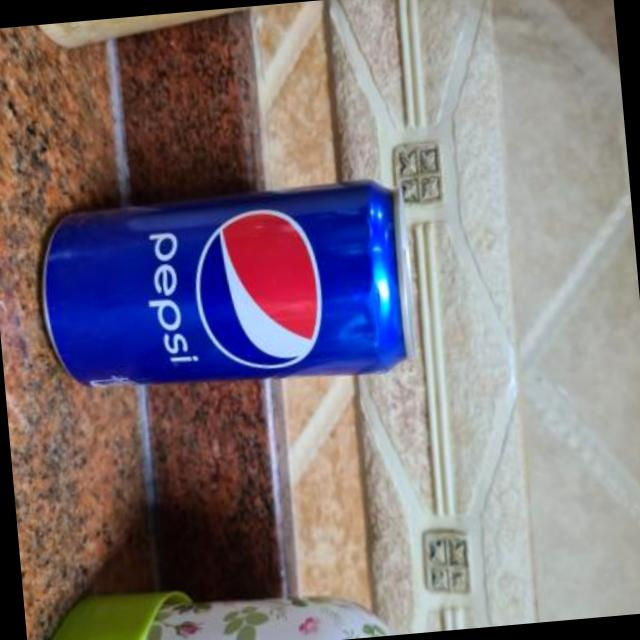metal: (42, 179, 412, 384)
